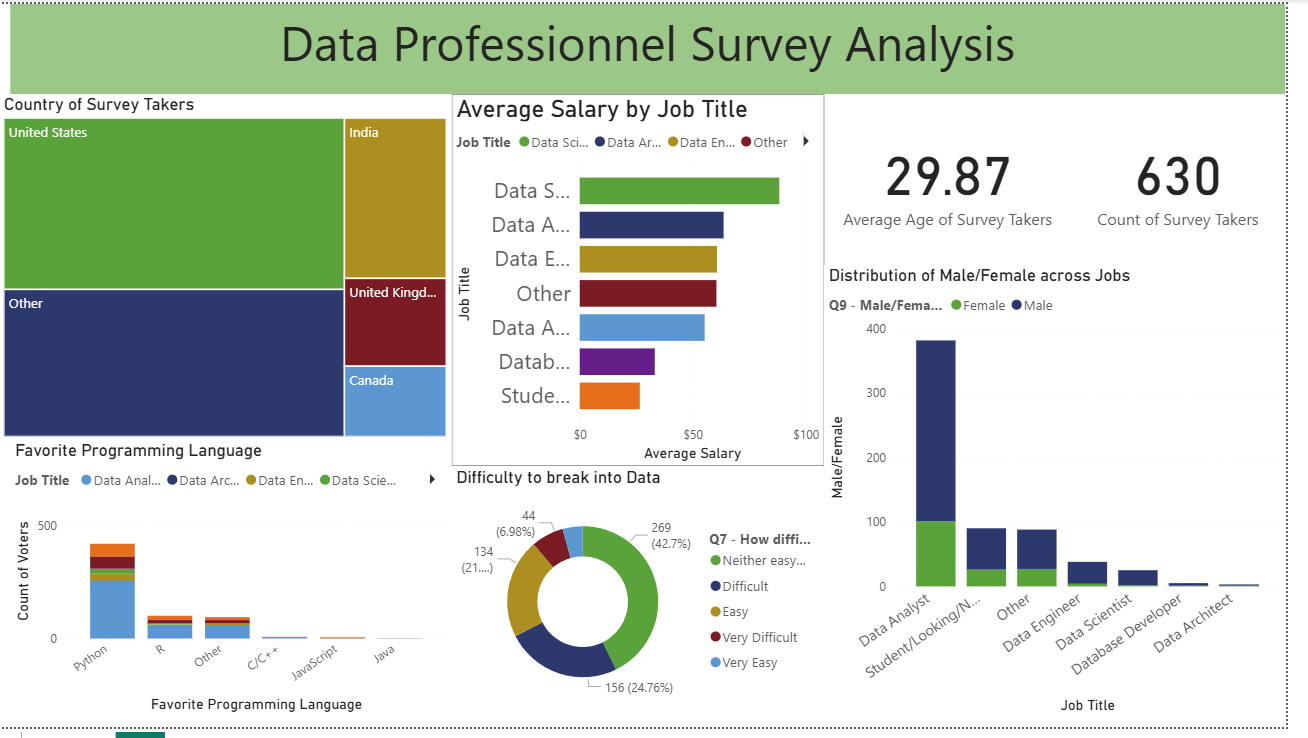

This screenshot's page, from the dashboard's own definition file:
{"tool":"powerbi","page":{"name":"Page 1","canvas":[1280,720],"ordinal":0},"visuals":[{"type":"textbox","box":[11.2,0,1268.8,89.6],"z":0},{"type":"card","fields":{"Values":["Count(Data Professional Survey.Unique ID)"]},"box":[1067.5,89.6,212.3,170.6],"z":1},{"type":"card","fields":{"Values":["Avg(Data Professional Survey.Q10 - Current Age)"]},"box":[820.9,89.6,246.6,170.6],"z":2},{"type":"barChart","title":"Average Salary by Job Title","fields":{"Category":["Data Professional Survey.Q1 - Which Title Best Fits your Current Role?.1"],"Y":["Avg(Data Professional Survey.Average Salary.1)"],"Series":["Data Professional Survey.Q1 - Which Title Best Fits your Current Role?.1"]},"box":[450.3,89.6,370.7,370.7],"z":3},{"type":"columnChart","title":" Favorite Programming Language","fields":{"Category":["Data Professional Survey.Q5 - Favorite Programming Language.1"],"Y":["CountNonNull(Data Professional Survey.Unique ID)"],"Series":["Data Professional Survey.Q1 - Which Title Best Fits your Current Role?.1"]},"box":[11,434.4,439.3,276.1],"z":4},{"type":"treemap","title":"Country of Survey Takers","fields":{"Group":["Data Professional Survey.Q11 - Which Country do you live in?.1"],"Values":["CountNonNull(Data Professional Survey.Q11 - Which Country do you live in?.1)"]},"box":[0,89.6,450.3,346],"z":5},{"type":"donutChart","title":"Difficulty to break into Data","fields":{"Y":["CountNonNull(Data Professional Survey.Q7 - How difficult was it for you to break into Data?)"],"Category":["Data Professional Survey.Q7 - How difficult was it for you to break into Data?"]},"box":[450.3,460.1,370.6,250.3],"z":6},{"type":"columnChart","title":"Distribution of Male/Female across Jobs","fields":{"Y":["CountNonNull(Data Professional Survey.Q9 - Male/Female?)"],"Category":["Data Professional Survey.Q1 - Which Title Best Fits your Current Role?.1"],"Series":["Data Professional Survey.Q9 - Male/Female?"]},"box":[820.9,260.1,458.9,450.3],"z":7}]}

Visuals, with their boxes in screenshot pixels (x1, y1, x2, y2), scaled from the page's 1280x720 canvas onto the 1308x738 screenshot:
textbox: 11,0,1307,92
card - Count(Data Professional Survey.Unique ID): 1091,92,1307,267
card - Avg(Data Professional Survey.Q10 - Current Age): 839,92,1091,267
"Average Salary by Job Title" barChart: 460,92,839,472
" Favorite Programming Language" columnChart: 11,445,460,728
"Country of Survey Takers" treemap: 0,92,460,446
"Difficulty to break into Data" donutChart: 460,472,839,728
"Distribution of Male/Female across Jobs" columnChart: 839,267,1307,728
